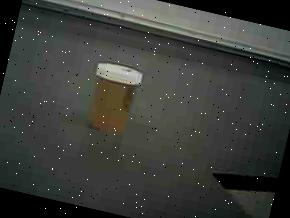Bottle B: (70, 50, 156, 146)
